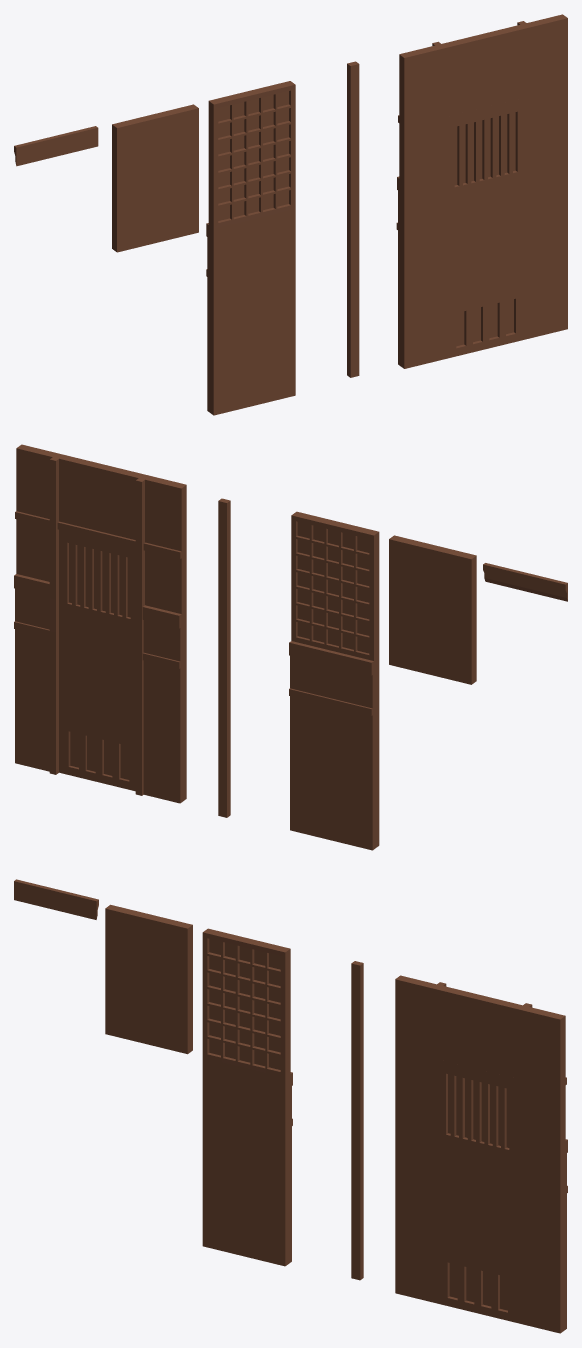
File: Set_Paredes.fbx
3 views of the same model, one above another, from view 1: azimuth 30°, elevation 25°; view 2: azimuth 150°, elevation 25°; view 3: azimuth 330°, elevation 25° (orthographic).
Parts seen in each view (by area): view 1: Pared_PuertaPared, Pared_Puerta, Pared_BaseInferior, Pared_Ventana, Pared_BaseSuperior, Pared_Columna, Pared_Socalo; view 2: Pared_PuertaPared, Pared_Puerta, Pared_BaseInferior, Pared_Ventana, Pared_BaseSuperior, Pared_Columna, Pared_Socalo; view 3: Pared_PuertaPared, Pared_Puerta, Pared_BaseInferior, Pared_Ventana, Pared_BaseSuperior, Pared_Columna, Pared_Socalo.
Boxes of the visible parts, x1=… form: Pared_PuertaPared: x1=396, y1=14, x2=567, y2=368; Pared_Puerta: x1=446, y1=97, x2=525, y2=358; Pared_BaseInferior: x1=206, y1=209, x2=295, y2=415; Pared_Ventana: x1=208, y1=81, x2=295, y2=228; Pared_BaseSuperior: x1=112, y1=104, x2=198, y2=252; Pared_Columna: x1=347, y1=61, x2=359, y2=377; Pared_Socalo: x1=14, y1=126, x2=98, y2=166; Pared_PuertaPared: x1=14, y1=444, x2=186, y2=803; Pared_Puerta: x1=59, y1=529, x2=135, y2=791; Pared_BaseInferior: x1=289, y1=641, x2=379, y2=850; Pared_Ventana: x1=291, y1=511, x2=379, y2=660; Pared_BaseSuperior: x1=389, y1=535, x2=476, y2=684; Pared_Columna: x1=218, y1=498, x2=230, y2=817; Pared_Socalo: x1=483, y1=563, x2=567, y2=601; Pared_PuertaPared: x1=395, y1=975, x2=567, y2=1333; Pared_Puerta: x1=438, y1=1059, x2=517, y2=1322; Pared_BaseInferior: x1=202, y1=1058, x2=292, y2=1266; Pared_Ventana: x1=202, y1=928, x2=290, y2=1077; Pared_BaseSuperior: x1=105, y1=904, x2=192, y2=1054; Pared_Columna: x1=351, y1=961, x2=363, y2=1280; Pared_Socalo: x1=14, y1=879, x2=98, y2=919.
Bounding box in the file's own units: 1394 × 760 × 38.57.
